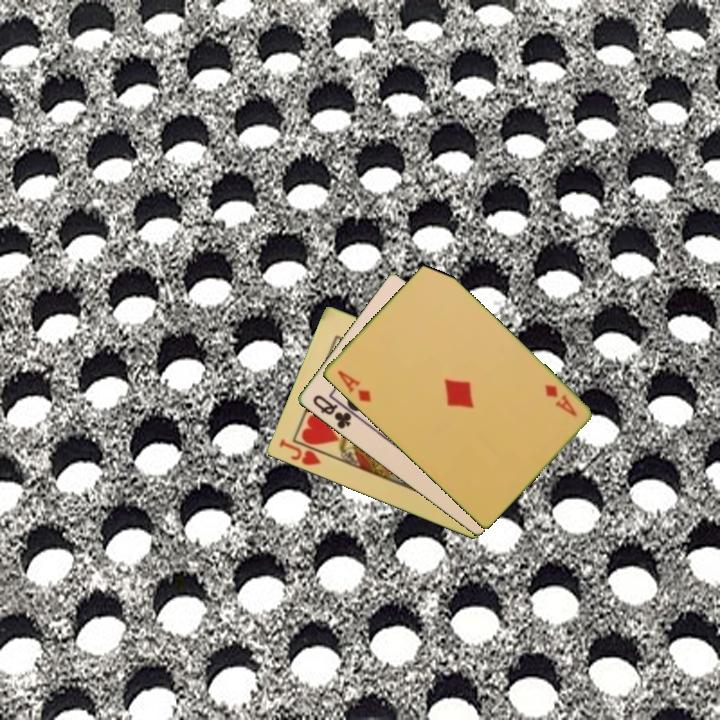Ad: (333, 366, 374, 405), (541, 381, 580, 420)
Jh: (275, 435, 324, 469)
Qc: (309, 391, 354, 432)
